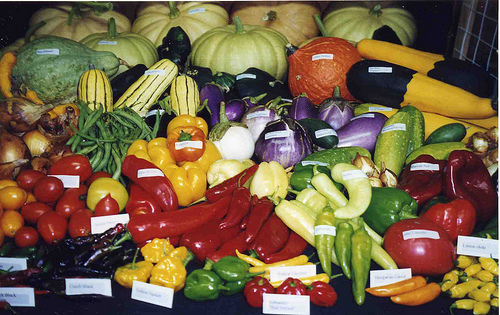capsicum: (361, 186, 419, 236), (184, 267, 232, 304), (165, 123, 206, 163), (213, 256, 267, 283)
